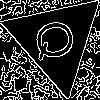Q: (31, 15, 85, 63)
